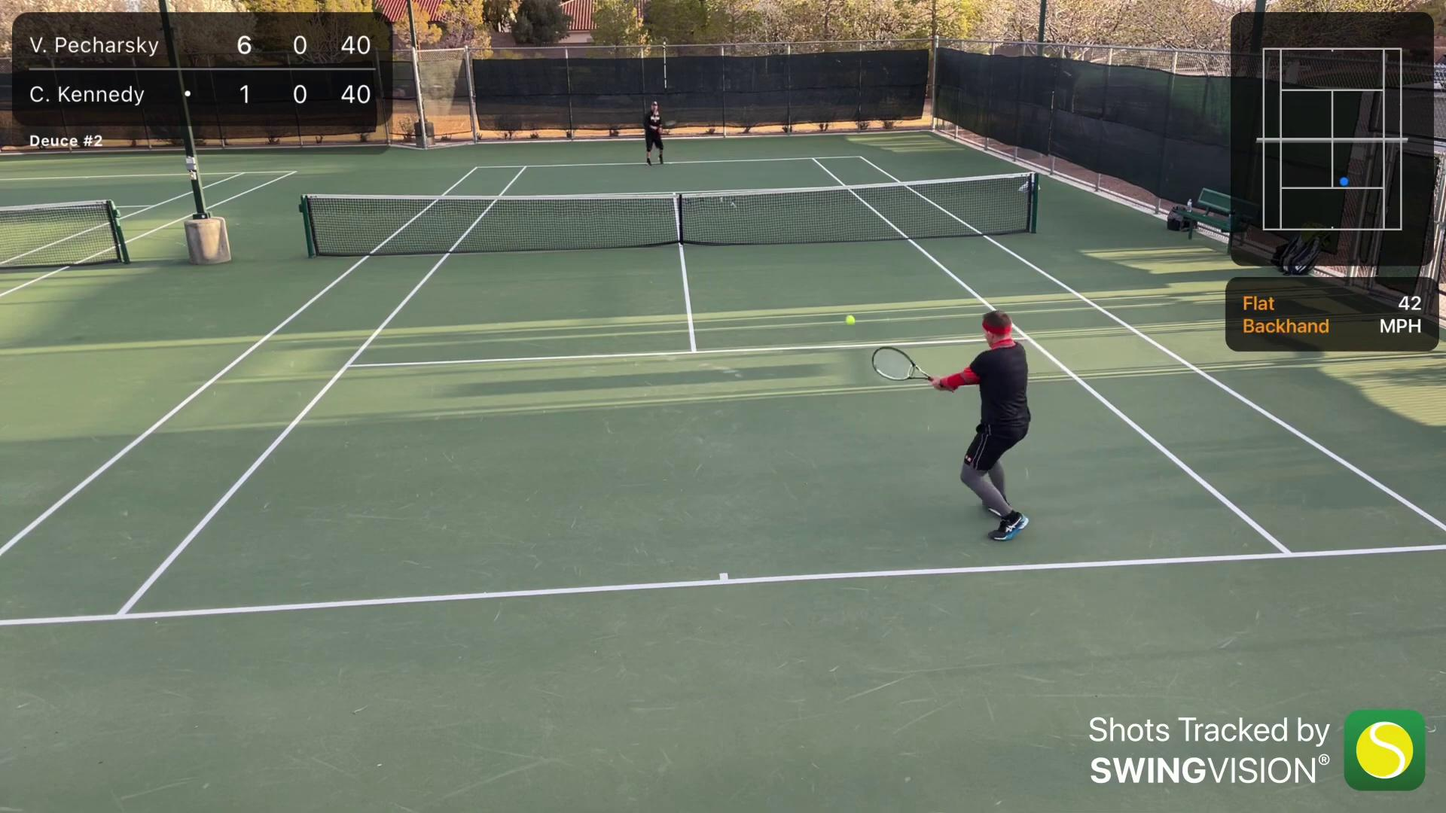ball: (842, 313, 858, 327)
